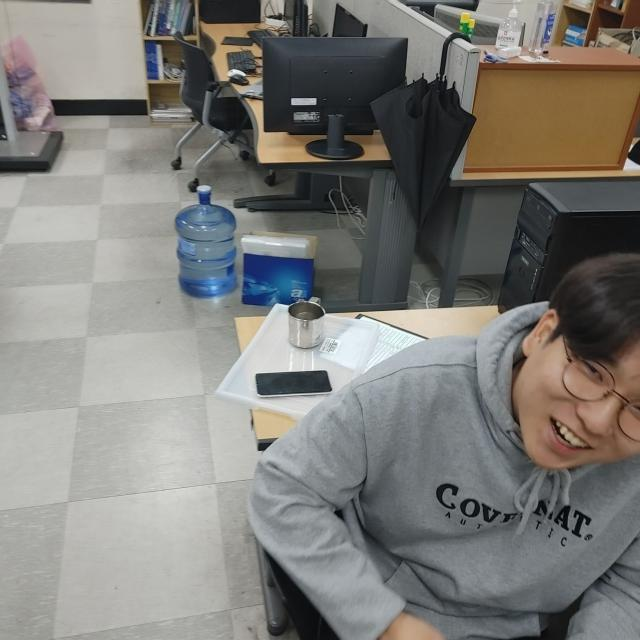cup: (284, 295, 330, 351)
phone: (252, 367, 338, 399)
